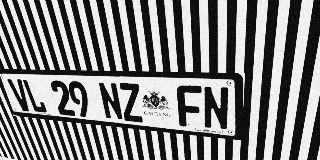2: (49, 80, 76, 116)
9: (66, 81, 93, 118)
F: (176, 85, 203, 128)
L: (21, 79, 48, 113)
N: (202, 86, 229, 131), (97, 82, 124, 121)
V: (7, 79, 33, 112)
Z: (117, 83, 144, 123)
